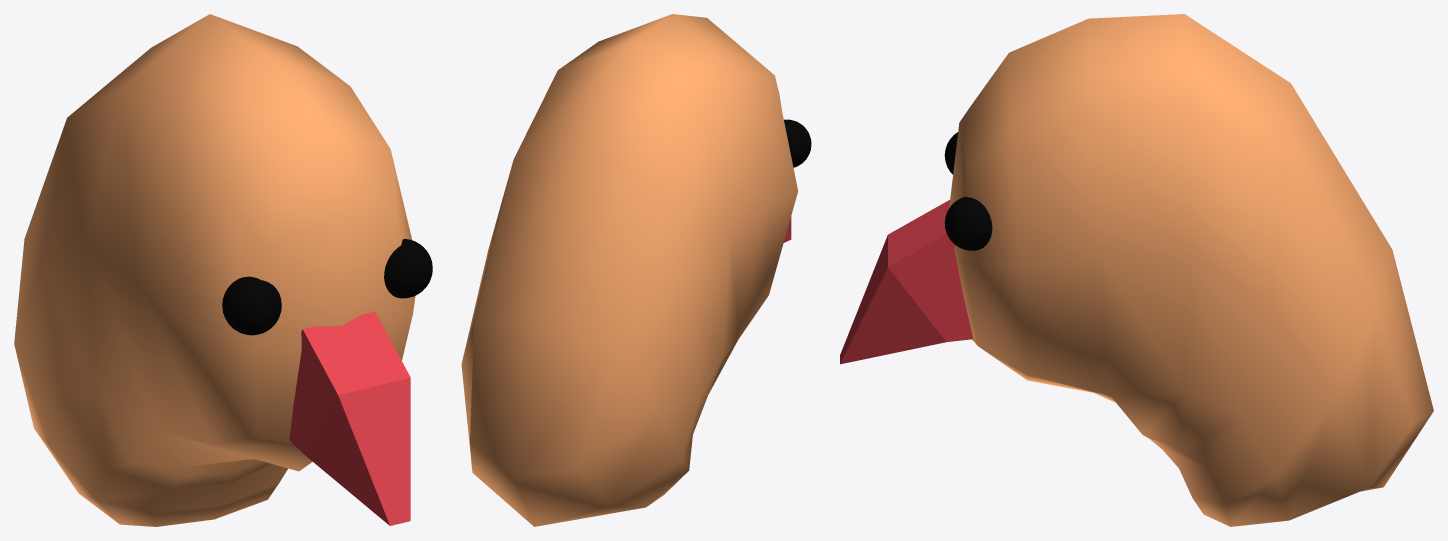
Rendered from BirdHead_fbx.fbx.
The picture shows the model from 3 angles, left to right: view 1: azimuth 30°, elevation 25°; view 2: azimuth 150°, elevation 25°; view 3: azimuth 270°, elevation 25°; orthographic projection. The views are drawn at different scales.
Parts seen in each view (by area): view 1: Cube, Cube.001, Sphere.001, Sphere; view 2: Cube, Sphere.001; view 3: Cube, Cube.001, Sphere.
Boxes of the visible parts, bbox=[...] form: Cube: bbox=[14, 14, 415, 526]; Cube.001: bbox=[289, 311, 410, 525]; Sphere.001: bbox=[222, 276, 281, 335]; Sphere: bbox=[384, 239, 432, 298]; Cube: bbox=[461, 14, 797, 526]; Sphere.001: bbox=[784, 119, 811, 167]; Cube: bbox=[949, 14, 1433, 526]; Cube.001: bbox=[840, 200, 973, 364]; Sphere: bbox=[944, 196, 992, 250].
Bounding box in the file's own units: 190 × 382 × 424.
